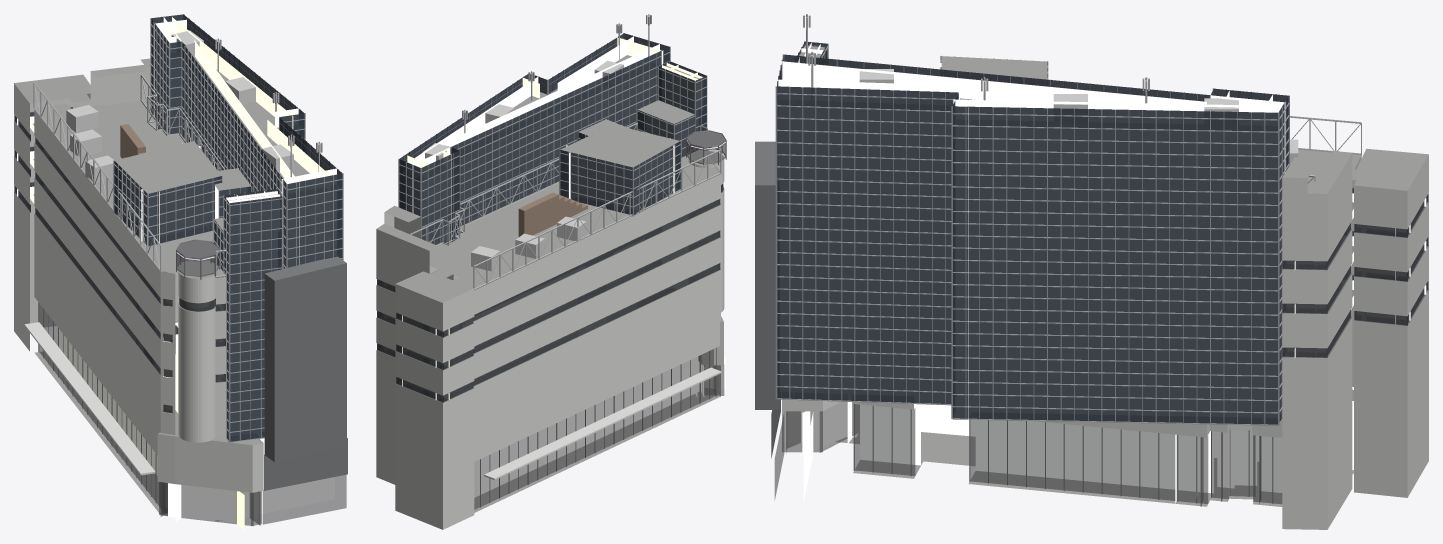
The model's file is magnet.glb.
3 renders of one model, left to right at view 1: azimuth 30°, elevation 25°; view 2: azimuth 150°, elevation 25°; view 3: azimuth 270°, elevation 25°, orthographic. The views are drawn at different scales.
Parts seen in each view (by area): view 1: 01_WEST_WING_white_panel, 03_TOWER_tower_glass, 04_SIGN_BOX_box_grey, 03_TOWER_tower_mullion, 01_WEST_WING_roof, 02_DRUM_drum_panel, 05_PODIUM_shop_glass, 05_PODIUM_white_panel, 03_TOWER_interior, 03_TOWER_roof, 05_PODIUM_interior, 06_ROOFTOP_steel (+11 smaller); view 2: 01_WEST_WING_white_panel, 03_TOWER_tower_glass, 01_WEST_WING_roof, 03_TOWER_tower_mullion, 01_WEST_WING_shop_glass, 01_WEST_WING_ribbon_glass, 01_WEST_WING_interior, 03_TOWER_interior, 06_ROOFTOP_steel, 03_TOWER_roof, 01_WEST_WING_mullion, 05_PODIUM_canopy (+7 smaller); view 3: 03_TOWER_tower_glass, 01_WEST_WING_white_panel, 03_TOWER_tower_mullion, 01_WEST_WING_shop_glass, 01_WEST_WING_interior, 01_WEST_WING_roof, 03_TOWER_interior, 04_SIGN_BOX_box_grey, 01_WEST_WING_ribbon_glass, 01_WEST_WING_mullion, 05_PODIUM_shop_glass, 05_PODIUM_interior (+3 smaller).
Boxes of the visible parts, x1=… form: 01_WEST_WING_white_panel: x1=14, y1=67, x2=225, y2=454; 03_TOWER_tower_glass: x1=114, y1=14, x2=342, y2=441; 04_SIGN_BOX_box_grey: x1=264, y1=256, x2=346, y2=462; 03_TOWER_tower_mullion: x1=113, y1=14, x2=343, y2=442; 01_WEST_WING_roof: x1=14, y1=58, x2=225, y2=521; 02_DRUM_drum_panel: x1=178, y1=271, x2=217, y2=442; 05_PODIUM_shop_glass: x1=159, y1=475, x2=346, y2=526; 05_PODIUM_white_panel: x1=157, y1=434, x2=263, y2=492; 03_TOWER_interior: x1=141, y1=17, x2=336, y2=264; 03_TOWER_roof: x1=114, y1=57, x2=309, y2=230; 05_PODIUM_interior: x1=168, y1=477, x2=334, y2=529; 06_ROOFTOP_steel: x1=33, y1=38, x2=322, y2=277; 01_WEST_WING_white_panel: x1=376, y1=174, x2=720, y2=529; 03_TOWER_tower_glass: x1=399, y1=33, x2=706, y2=244; 01_WEST_WING_roof: x1=377, y1=149, x2=720, y2=512; 03_TOWER_tower_mullion: x1=398, y1=33, x2=707, y2=244; 01_WEST_WING_shop_glass: x1=474, y1=349, x2=716, y2=509; 01_WEST_WING_ribbon_glass: x1=377, y1=199, x2=719, y2=402; 01_WEST_WING_interior: x1=402, y1=277, x2=699, y2=497; 03_TOWER_interior: x1=407, y1=36, x2=702, y2=242; 06_ROOFTOP_steel: x1=410, y1=14, x2=721, y2=290; 03_TOWER_roof: x1=514, y1=55, x2=699, y2=167; 01_WEST_WING_mullion: x1=376, y1=204, x2=720, y2=507; 05_PODIUM_canopy: x1=484, y1=367, x2=721, y2=480; 03_TOWER_tower_glass: x1=777, y1=41, x2=1288, y2=424; 01_WEST_WING_white_panel: x1=853, y1=153, x2=1428, y2=529; 03_TOWER_tower_mullion: x1=775, y1=41, x2=1289, y2=425; 01_WEST_WING_shop_glass: x1=854, y1=390, x2=1353, y2=504; 01_WEST_WING_interior: x1=847, y1=193, x2=1426, y2=503; 01_WEST_WING_roof: x1=835, y1=148, x2=1428, y2=506; 03_TOWER_interior: x1=778, y1=42, x2=1285, y2=419; 04_SIGN_BOX_box_grey: x1=755, y1=141, x2=779, y2=409; 01_WEST_WING_ribbon_glass: x1=1282, y1=188, x2=1428, y2=357; 01_WEST_WING_mullion: x1=853, y1=187, x2=1428, y2=506; 05_PODIUM_shop_glass: x1=774, y1=401, x2=859, y2=500; 05_PODIUM_interior: x1=782, y1=401, x2=859, y2=501.
Bounding box in the file's own units: 27.01 × 47.37 × 62.52.
